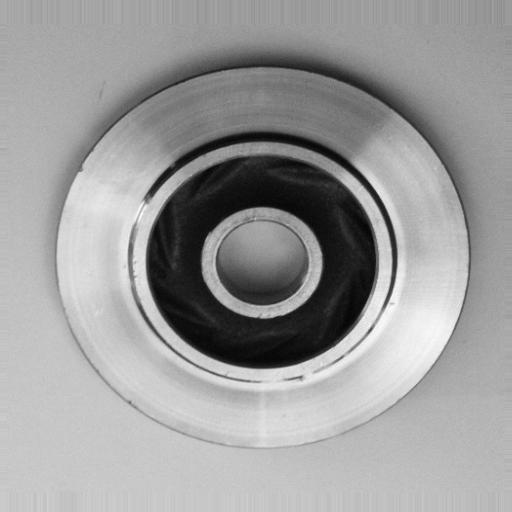scratch: (248, 365, 342, 394), (124, 198, 152, 290)
unpolished_casting: (54, 64, 474, 455)
